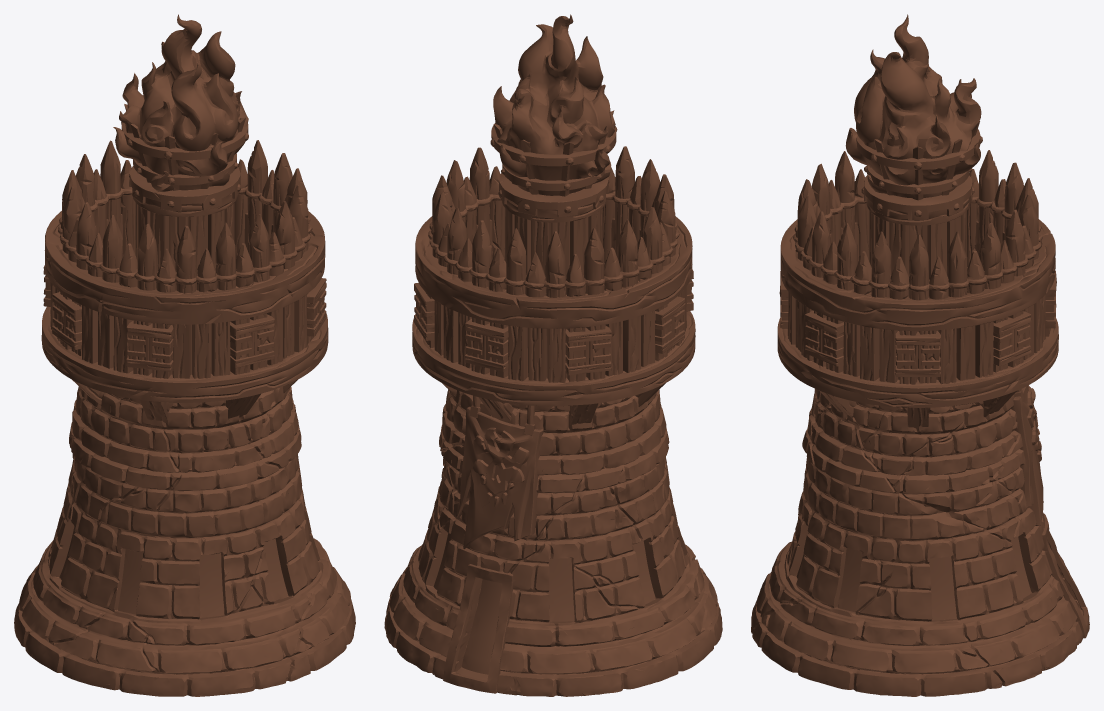
The model's file is Haven_Tower.obj.
3 views of the same model, side by side, from view 1: azimuth 30°, elevation 25°; view 2: azimuth 150°, elevation 25°; view 3: azimuth 270°, elevation 25° (orthographic).
Parts seen in each view (by area): view 1: HavenTop_Decimate_0; view 2: HavenTop_Decimate_0; view 3: HavenTop_Decimate_0.
Boxes of the visible parts, x1=… form: HavenTop_Decimate_0: x1=14, y1=14, x2=355, y2=696; HavenTop_Decimate_0: x1=384, y1=14, x2=722, y2=696; HavenTop_Decimate_0: x1=751, y1=14, x2=1089, y2=696.
Size of the model in its own units: 1.01 by 2.01 by 1.02.
